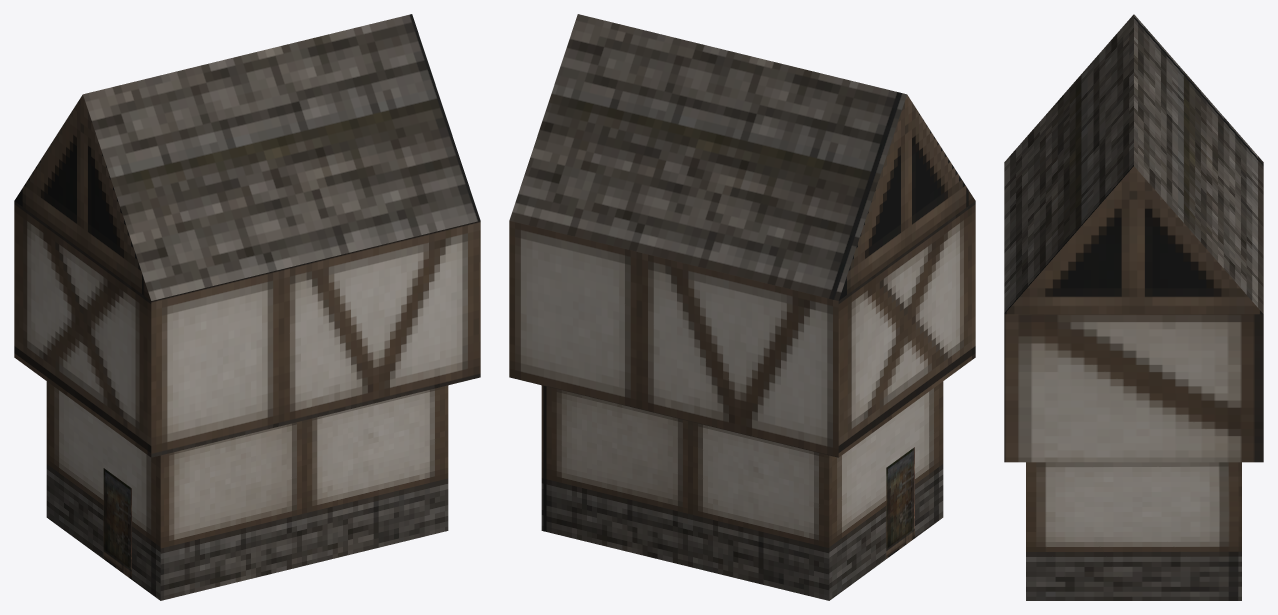
Rendered from LowPolyHouse_01.fbx.
3 renders of one model, left to right at view 1: azimuth 30°, elevation 25°; view 2: azimuth 150°, elevation 25°; view 3: azimuth 270°, elevation 25°, orthographic. The views are drawn at different scales.
Visible parts, largest first — view 1: Cube; view 2: Cube; view 3: Cube.
Boxes of the visible parts, x1=… form: Cube: x1=14, y1=14, x2=480, y2=600; Cube: x1=509, y1=14, x2=975, y2=600; Cube: x1=1004, y1=14, x2=1263, y2=600.
Bounding box in the file's own units: 440 × 600 × 317.
Materials: 1 (1 with a texture image).
